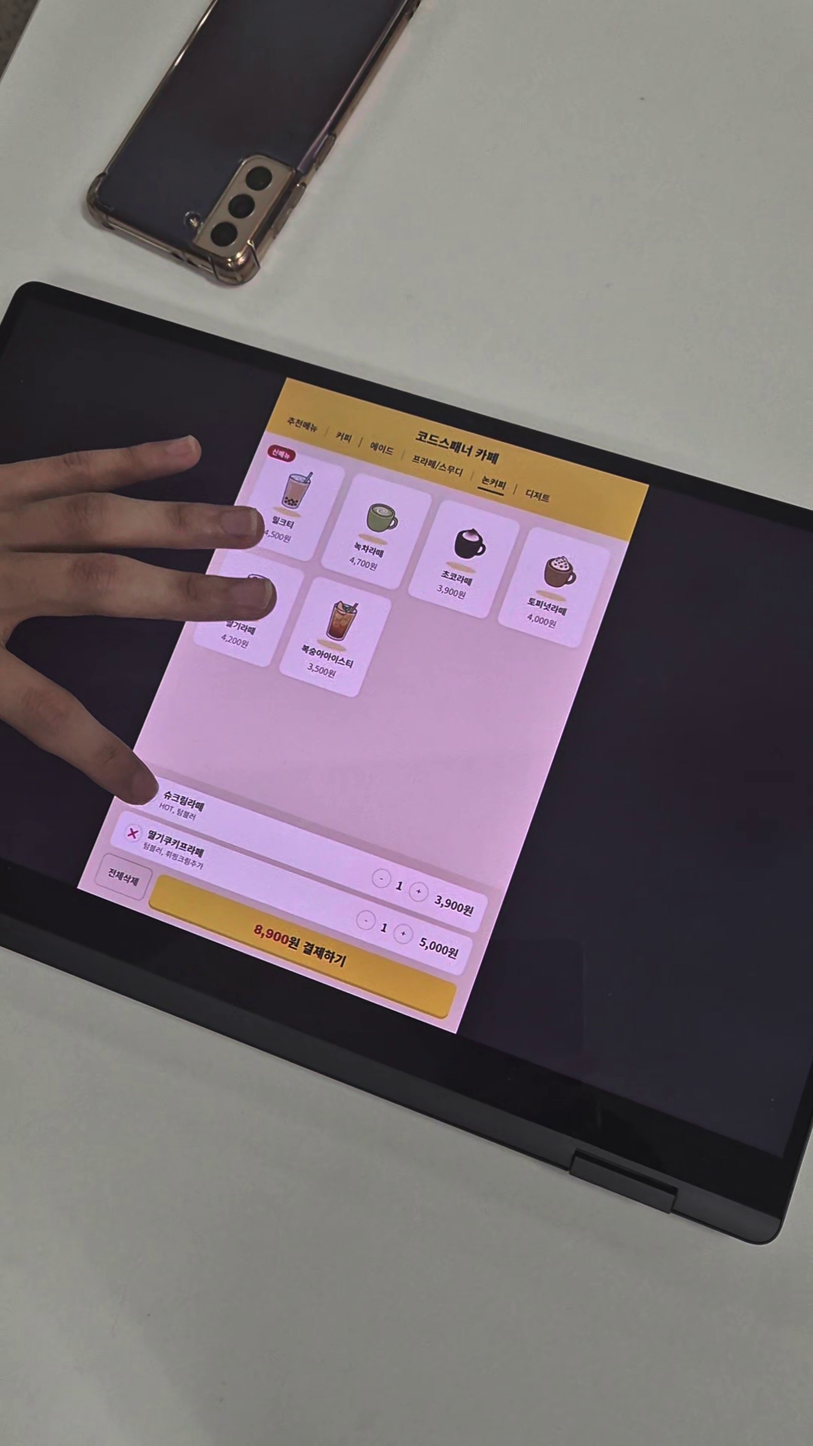action_button: (146, 873, 459, 1023), (90, 851, 156, 906)
category_tab: (407, 451, 467, 480), (361, 433, 399, 460), (282, 413, 322, 438), (523, 484, 559, 507), (476, 472, 512, 494), (330, 428, 358, 447)
menu_back: (271, 571, 397, 708), (492, 522, 616, 658), (229, 439, 352, 567), (405, 497, 522, 626), (318, 469, 435, 596)
menu_name: (296, 640, 358, 671), (524, 593, 573, 620), (347, 536, 389, 562), (437, 566, 477, 590), (223, 618, 258, 637), (266, 512, 298, 530)
menu_price: (521, 610, 562, 632), (345, 551, 381, 574), (431, 581, 470, 602), (303, 660, 339, 682), (260, 525, 294, 546), (218, 630, 251, 650)
option_button: (119, 766, 493, 939), (105, 809, 475, 981)
